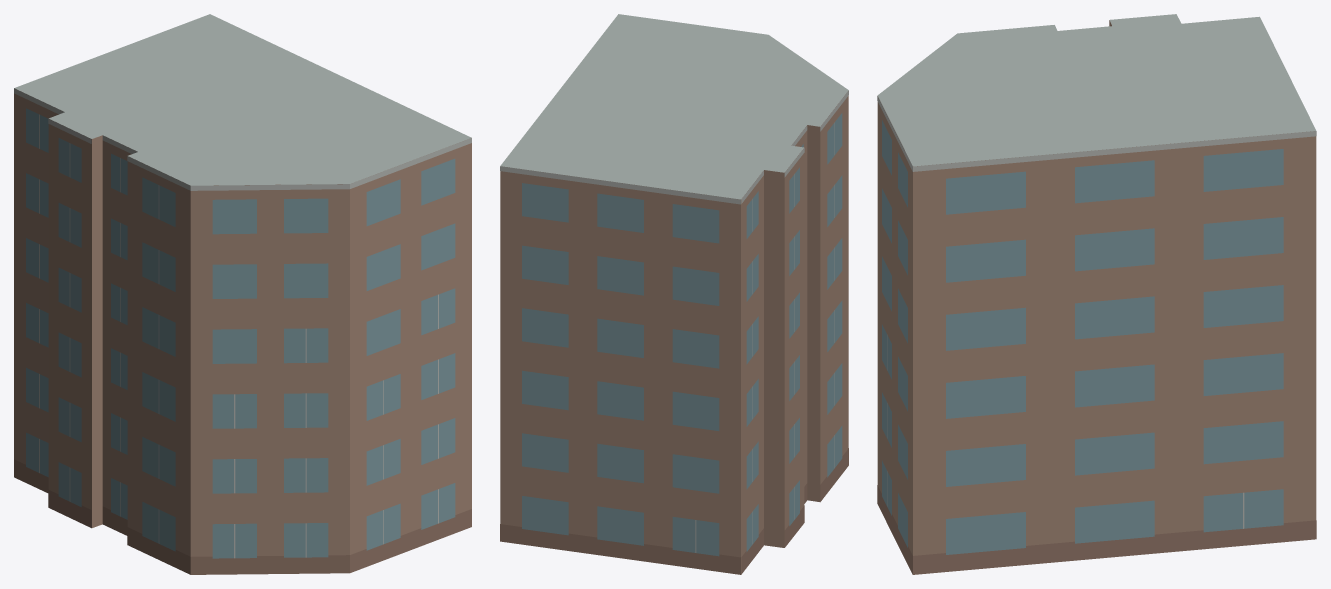
The model's file is survey-upis-32738960.glb.
3 renders of one model, left to right at view 1: azimuth 30°, elevation 25°; view 2: azimuth 150°, elevation 25°; view 3: azimuth 270°, elevation 25°, orthographic. The views are drawn at different scales.
Visible parts, largest first — view 1: survey-upis-32738960.tmp; view 2: survey-upis-32738960.tmp; view 3: survey-upis-32738960.tmp.
Boxes of the visible parts, x1,y1,x2,y2 form: survey-upis-32738960.tmp: (14, 14, 471, 574); survey-upis-32738960.tmp: (500, 14, 848, 574); survey-upis-32738960.tmp: (877, 14, 1316, 574).
Size of the model in its own units: 14.66 by 18.3 by 17.84.
